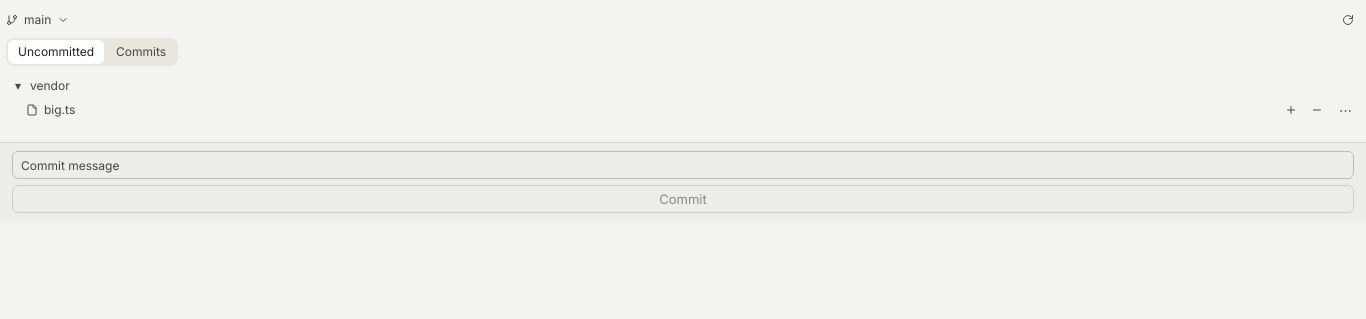
Test: ChangesSurface › shows the sentence that names the cap that withheld a too-large diff
What coordinates should you click on to do the following:
click the button with class "workspace-file-change"
I would click on:
 (60, 110)
Its box is [6,98,1275,122].
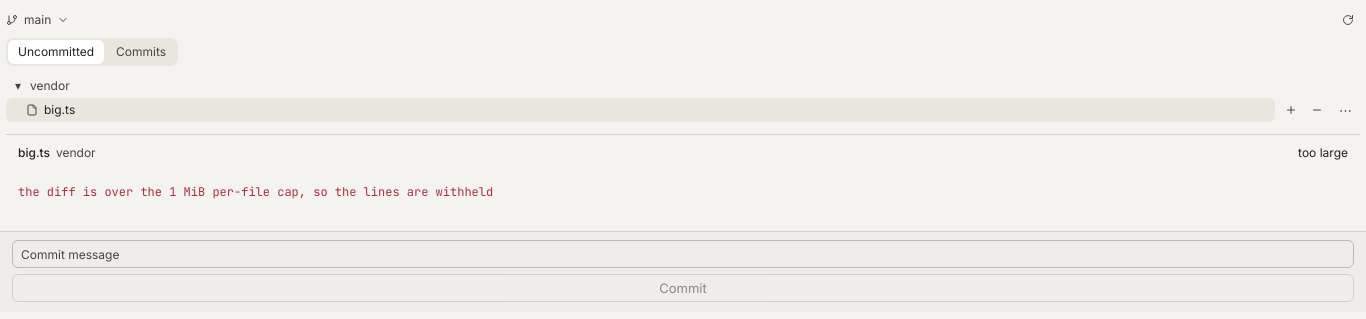
Now the message "the diff is over the 1 MiB per-file cap, so the lines are withheld" is shown, box [18,184,493,200]
Now the text with class "workspace-changes-diff-state" reads "too large", box [1298,145,1348,160]
